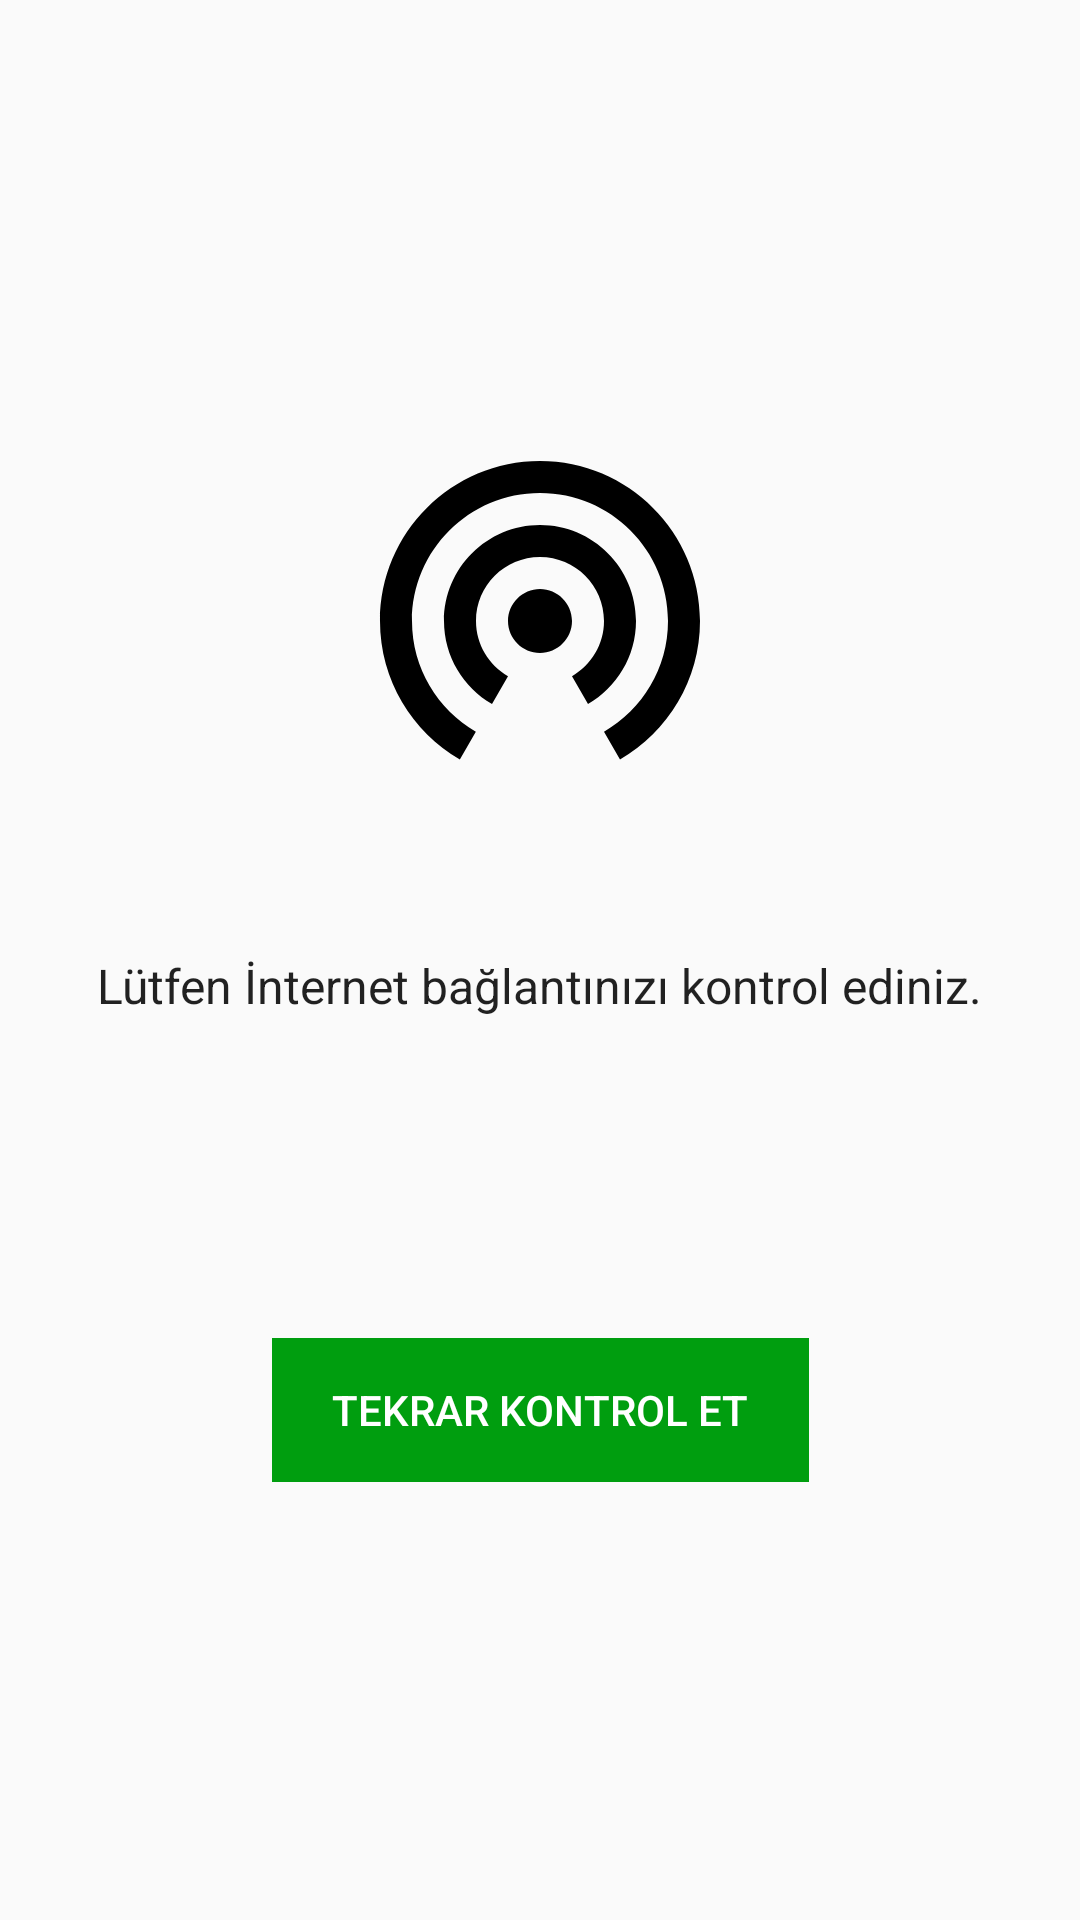

Locate icon controls on the screen. Image size 1080 x 1920, boxes as (x1=x1, y1=y1, x2=x2, y2=y2).
wifi tethering: (x1=380, y1=461, x2=700, y2=760)
